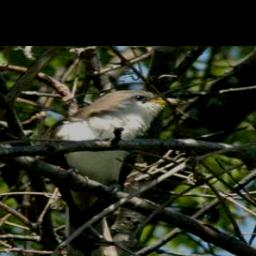Cuckoo: (39, 89, 191, 256)
